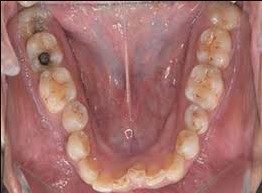LL1BC_healthy: (176, 130, 200, 158)
LL1M_decay: (187, 65, 223, 108)
LL2BC_decay: (183, 104, 210, 134)
LL2M_decay: (197, 29, 232, 65)
LLCI_healthy: (130, 167, 146, 187)
LLC_healthy: (166, 155, 187, 181)
LLLI_healthy: (146, 168, 164, 186)
LR1BC_healthy: (66, 129, 90, 160)
LR1M_healthy: (41, 68, 75, 108)
LR2BC_healthy: (63, 106, 87, 132)
LR2M_decay: (28, 33, 63, 70)
LRCI_healthy: (114, 171, 130, 190)
LRC_healthy: (80, 158, 100, 182)
LRLI_healthy: (95, 174, 114, 192)
